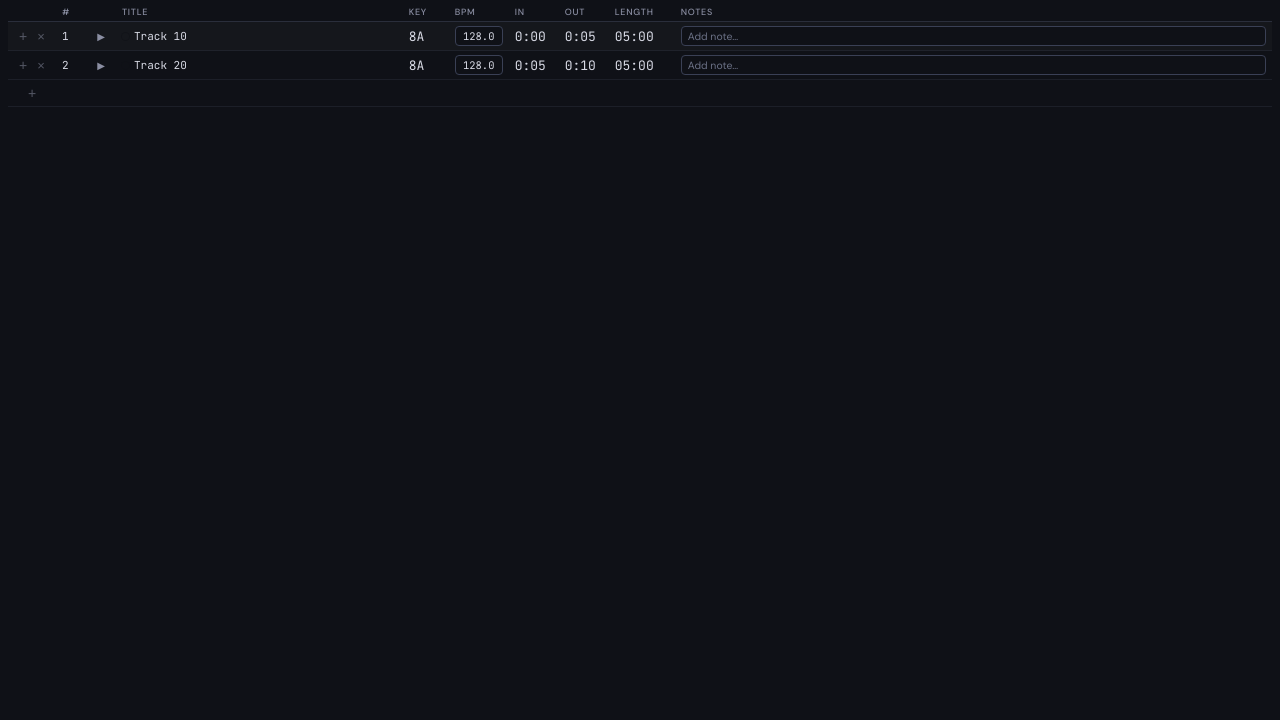
Test case: SequencerTracklist explicit row actions › inserts a browse track before the selected row
Click the button named "Insert track before Track 20" at (23, 65), box [14,56,32,74]
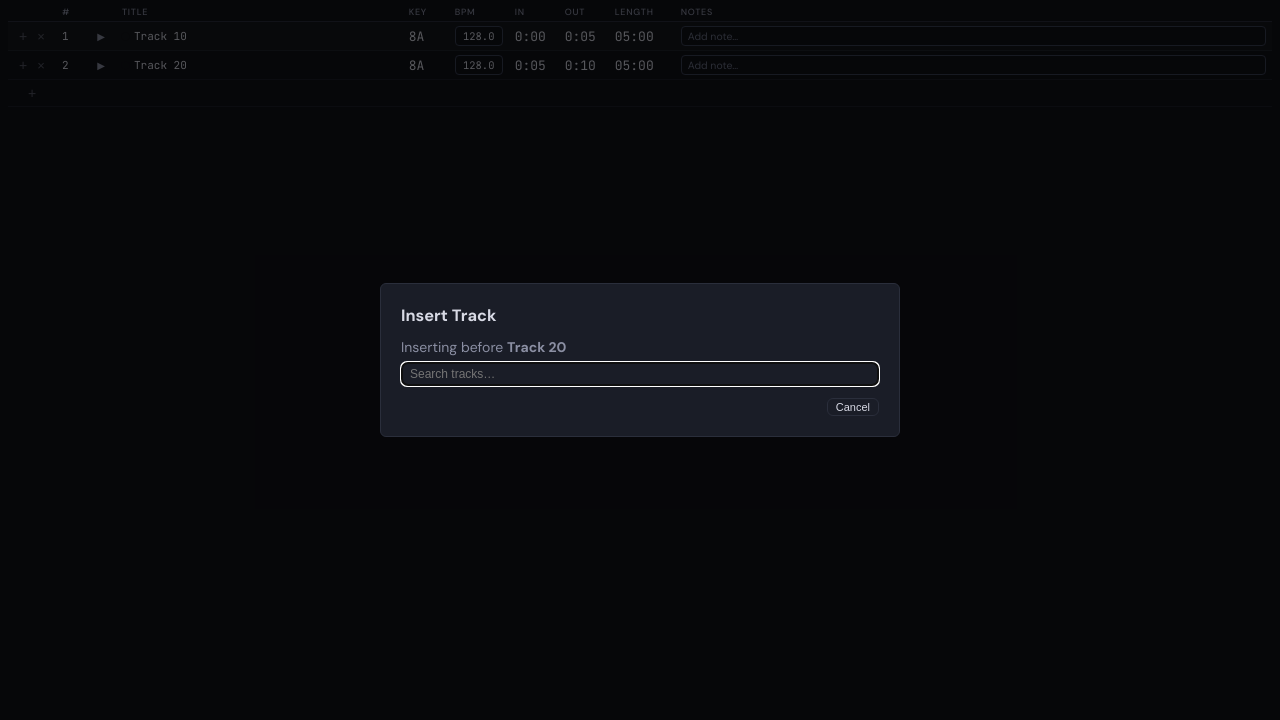
Type "Track 99" into the field with test id "track-search-modal-input" at (640, 374), box [401,362,879,386]
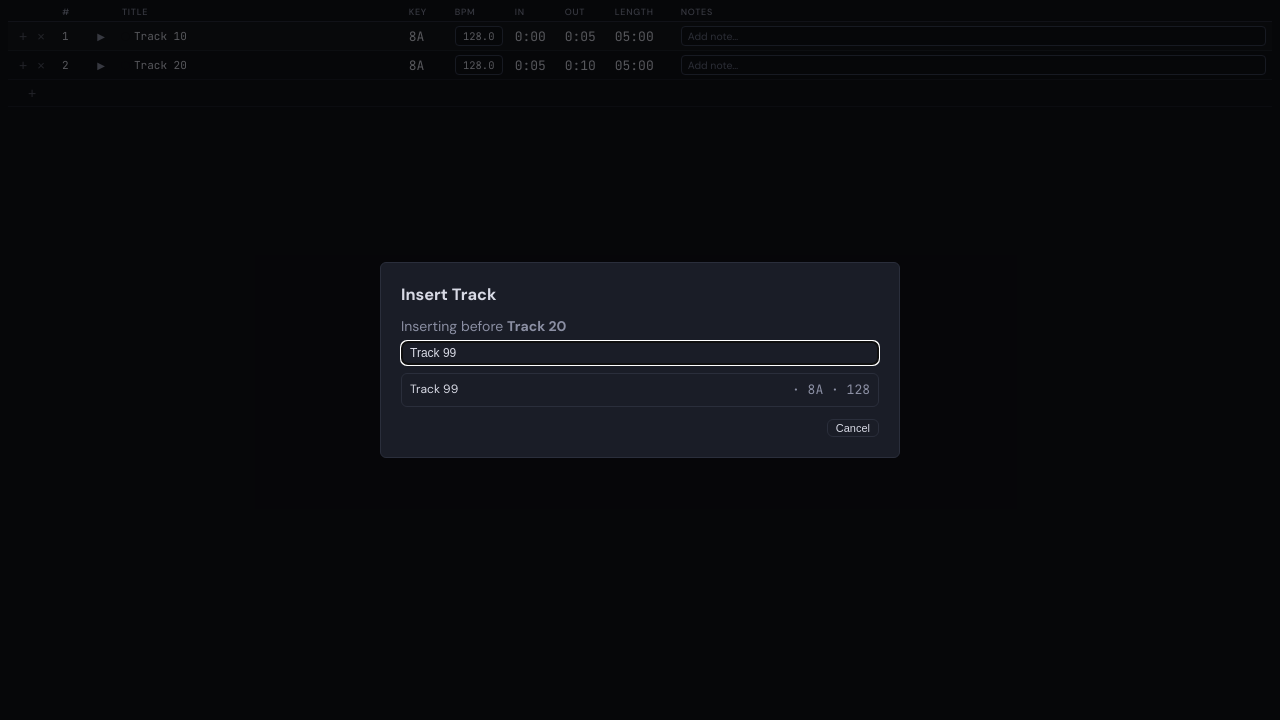
Press the mouse on the list item with test id "track-search-modal-item" at (434, 389), box [410,381,870,398]
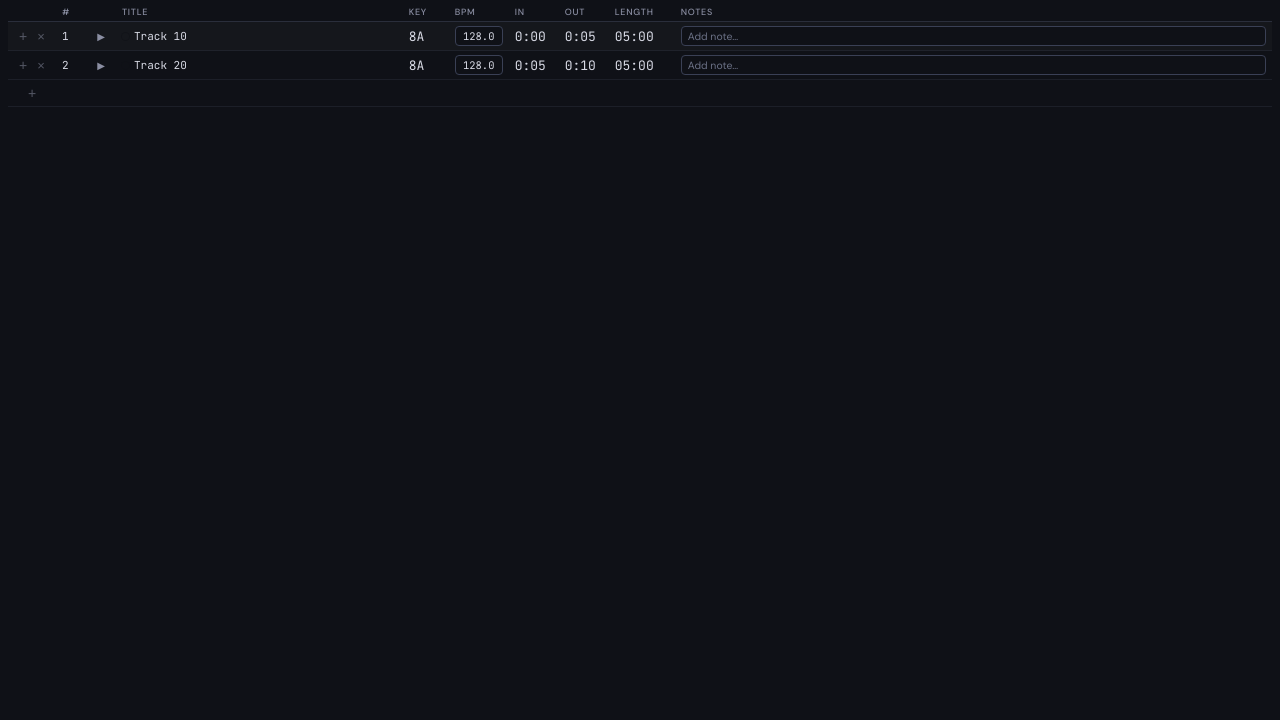
Expected: the dialog with test id "track-search-modal" is gone
